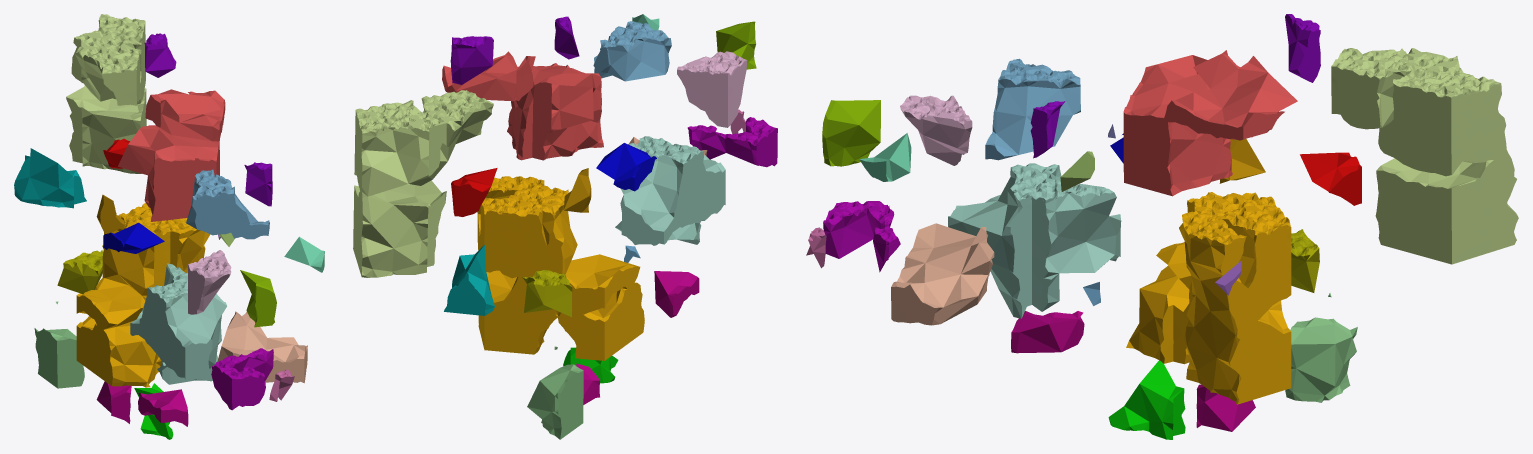
The model's file is fractured_2_28pcs_transformed.glb.
The picture shows the model from 3 angles, left to right: view 1: azimuth 30°, elevation 25°; view 2: azimuth 150°, elevation 25°; view 3: azimuth 270°, elevation 25°; orthographic projection. The views are drawn at different scales.
Visible parts, largest first — view 1: piece_0.obj, piece_5.obj, piece_1.obj, piece_4.obj, piece_2.obj, piece_7.obj, piece_13.obj, piece_12.obj, piece_3.obj, piece_6.obj, piece_11.obj, piece_15.obj (+10 smaller); view 2: piece_0.obj, piece_5.obj, piece_1.obj, piece_4.obj, piece_6.obj, piece_2.obj, piece_3.obj, piece_12.obj, piece_13.obj, piece_11.obj, piece_10.obj, piece_16.obj (+7 smaller); view 3: piece_5.obj, piece_0.obj, piece_1.obj, piece_4.obj, piece_7.obj, piece_2.obj, piece_3.obj, piece_8.obj, piece_12.obj, piece_14.obj, piece_6.obj, piece_15.obj (+8 smaller).
Boxes of the visible parts, x1,y1,x2,y2 form: piece_0.obj: [76, 202, 210, 387]; piece_5.obj: [66, 14, 146, 173]; piece_1.obj: [118, 89, 225, 221]; piece_4.obj: [130, 263, 226, 384]; piece_2.obj: [186, 169, 269, 239]; piece_7.obj: [217, 311, 307, 383]; piece_13.obj: [14, 148, 86, 208]; piece_12.obj: [211, 348, 273, 410]; piece_3.obj: [34, 328, 84, 388]; piece_6.obj: [187, 250, 231, 314]; piece_11.obj: [57, 250, 103, 294]; piece_15.obj: [138, 389, 188, 426]; piece_0.obj: [477, 176, 644, 360]; piece_5.obj: [353, 90, 493, 277]; piece_1.obj: [442, 51, 603, 160]; piece_4.obj: [615, 136, 725, 245]; piece_6.obj: [677, 51, 747, 127]; piece_2.obj: [593, 21, 671, 81]; piece_3.obj: [527, 364, 583, 439]; piece_12.obj: [687, 117, 777, 167]; piece_13.obj: [444, 245, 494, 315]; piece_11.obj: [522, 270, 572, 317]; piece_10.obj: [596, 143, 656, 191]; piece_16.obj: [450, 36, 493, 84]; piece_5.obj: [1331, 48, 1518, 264]; piece_0.obj: [1126, 192, 1291, 404]; piece_1.obj: [1123, 50, 1297, 196]; piece_4.obj: [948, 163, 1121, 318]; piece_7.obj: [891, 223, 994, 325]; piece_2.obj: [985, 58, 1080, 160]; piece_3.obj: [1285, 317, 1357, 402]; piece_8.obj: [1108, 360, 1185, 439]; piece_12.obj: [823, 201, 900, 272]; piece_14.obj: [822, 100, 880, 166]; piece_6.obj: [900, 95, 972, 165]; piece_15.obj: [1011, 311, 1084, 353].
Bounding box in the file's own units: 0.9618 × 2.1 × 3.02.
